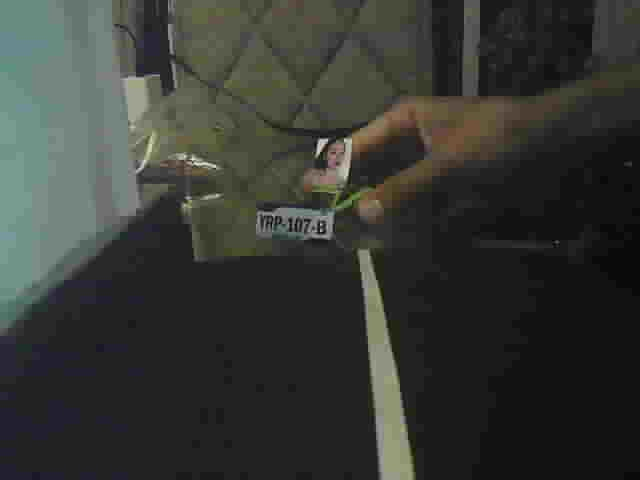PLACA: (253, 199, 339, 243)
ROSTRO: (313, 137, 350, 186)
